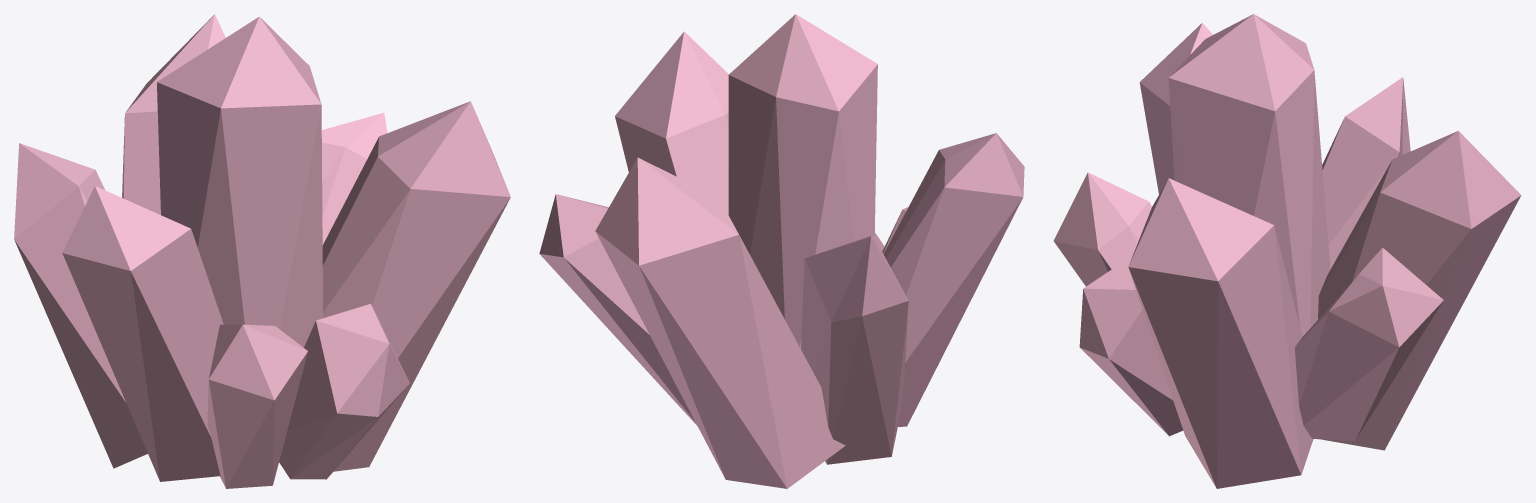
Rendered from pink_crystal_block.obj.
The picture shows the model from 3 angles, left to right: view 1: azimuth 30°, elevation 25°; view 2: azimuth 150°, elevation 25°; view 3: azimuth 270°, elevation 25°; orthographic projection. The views are drawn at different scales.
Visible parts, largest first — view 1: Icosphere.036_Icosphere.037; view 2: Icosphere.036_Icosphere.037; view 3: Icosphere.036_Icosphere.037.
Boxes of the visible parts, x1,y1,x2,y2 form: Icosphere.036_Icosphere.037: (14, 14, 510, 488); Icosphere.036_Icosphere.037: (539, 14, 1024, 488); Icosphere.036_Icosphere.037: (1053, 14, 1521, 488).
Bounding box in the file's own units: 1.01 × 1.01 × 0.9894.
